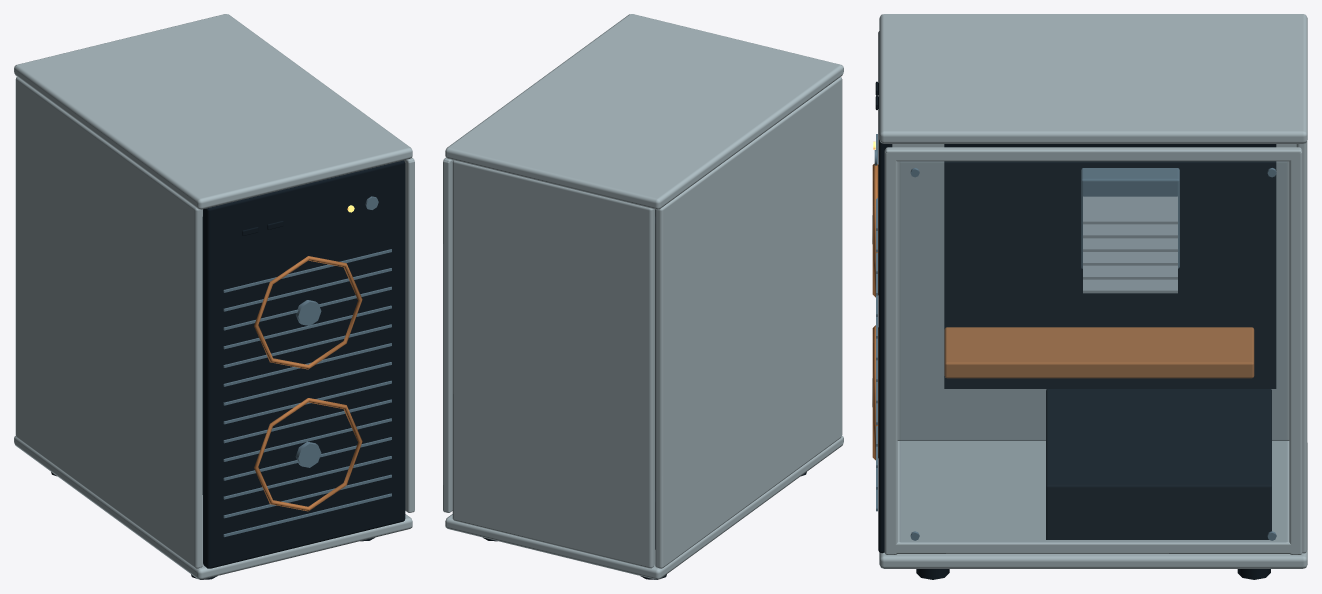
Rendered from tower.glb.
3 renders of one model, left to right at view 1: azimuth 30°, elevation 25°; view 2: azimuth 150°, elevation 25°; view 3: azimuth 270°, elevation 25°, orthographic. The views are drawn at different scales.
Visible parts, largest first — view 1: case, dark, hardware, copper; view 2: case; view 3: window, case, dark, copper, aluminum, hardware.
Part boxes in pixels (x1=…): case: x1=14, y1=14, x2=414, y2=579; dark: x1=51, y1=160, x2=405, y2=579; hardware: x1=223, y1=196, x2=391, y2=537; copper: x1=254, y1=256, x2=362, y2=511; case: x1=443, y1=14, x2=843, y2=579; window: x1=900, y1=162, x2=1286, y2=541; case: x1=879, y1=14, x2=1307, y2=568; dark: x1=875, y1=31, x2=1276, y2=579; copper: x1=872, y1=164, x2=1254, y2=460; aluminum: x1=1083, y1=196, x2=1177, y2=293; hardware: x1=872, y1=134, x2=1276, y2=540.
Bounding box in the file's own units: 0.246 × 0.423 × 0.366.
